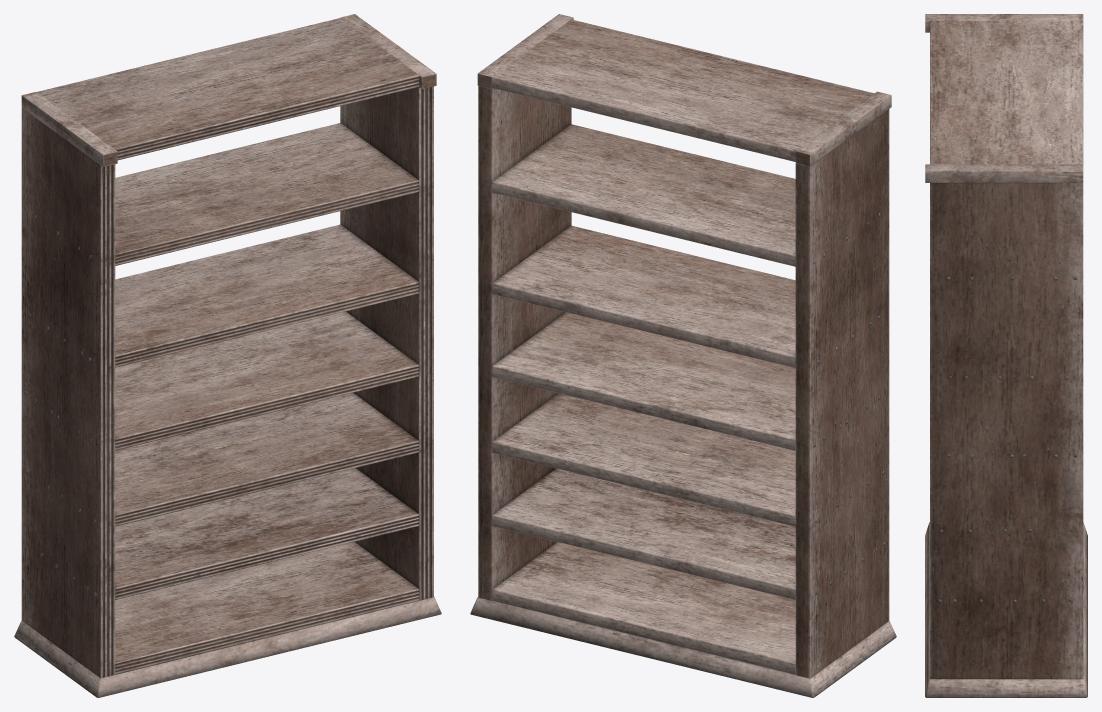
File: wooden_bookshelf_worn.glb
3 views of the same model, side by side, from view 1: azimuth 30°, elevation 25°; view 2: azimuth 150°, elevation 25°; view 3: azimuth 270°, elevation 25° (orthographic). The views are drawn at different scales.
Parts seen in each view (by area): view 1: wooden_bookshelf_worn; view 2: wooden_bookshelf_worn; view 3: wooden_bookshelf_worn.
Part boxes in pixels (x1,y1,x2,y2): wooden_bookshelf_worn: [14, 14, 441, 697]; wooden_bookshelf_worn: [470, 14, 896, 697]; wooden_bookshelf_worn: [925, 14, 1087, 697].
Bounding box in the file's own units: 1.37 × 2.06 × 0.5813.
Materials: 1 (1 with a texture image).
